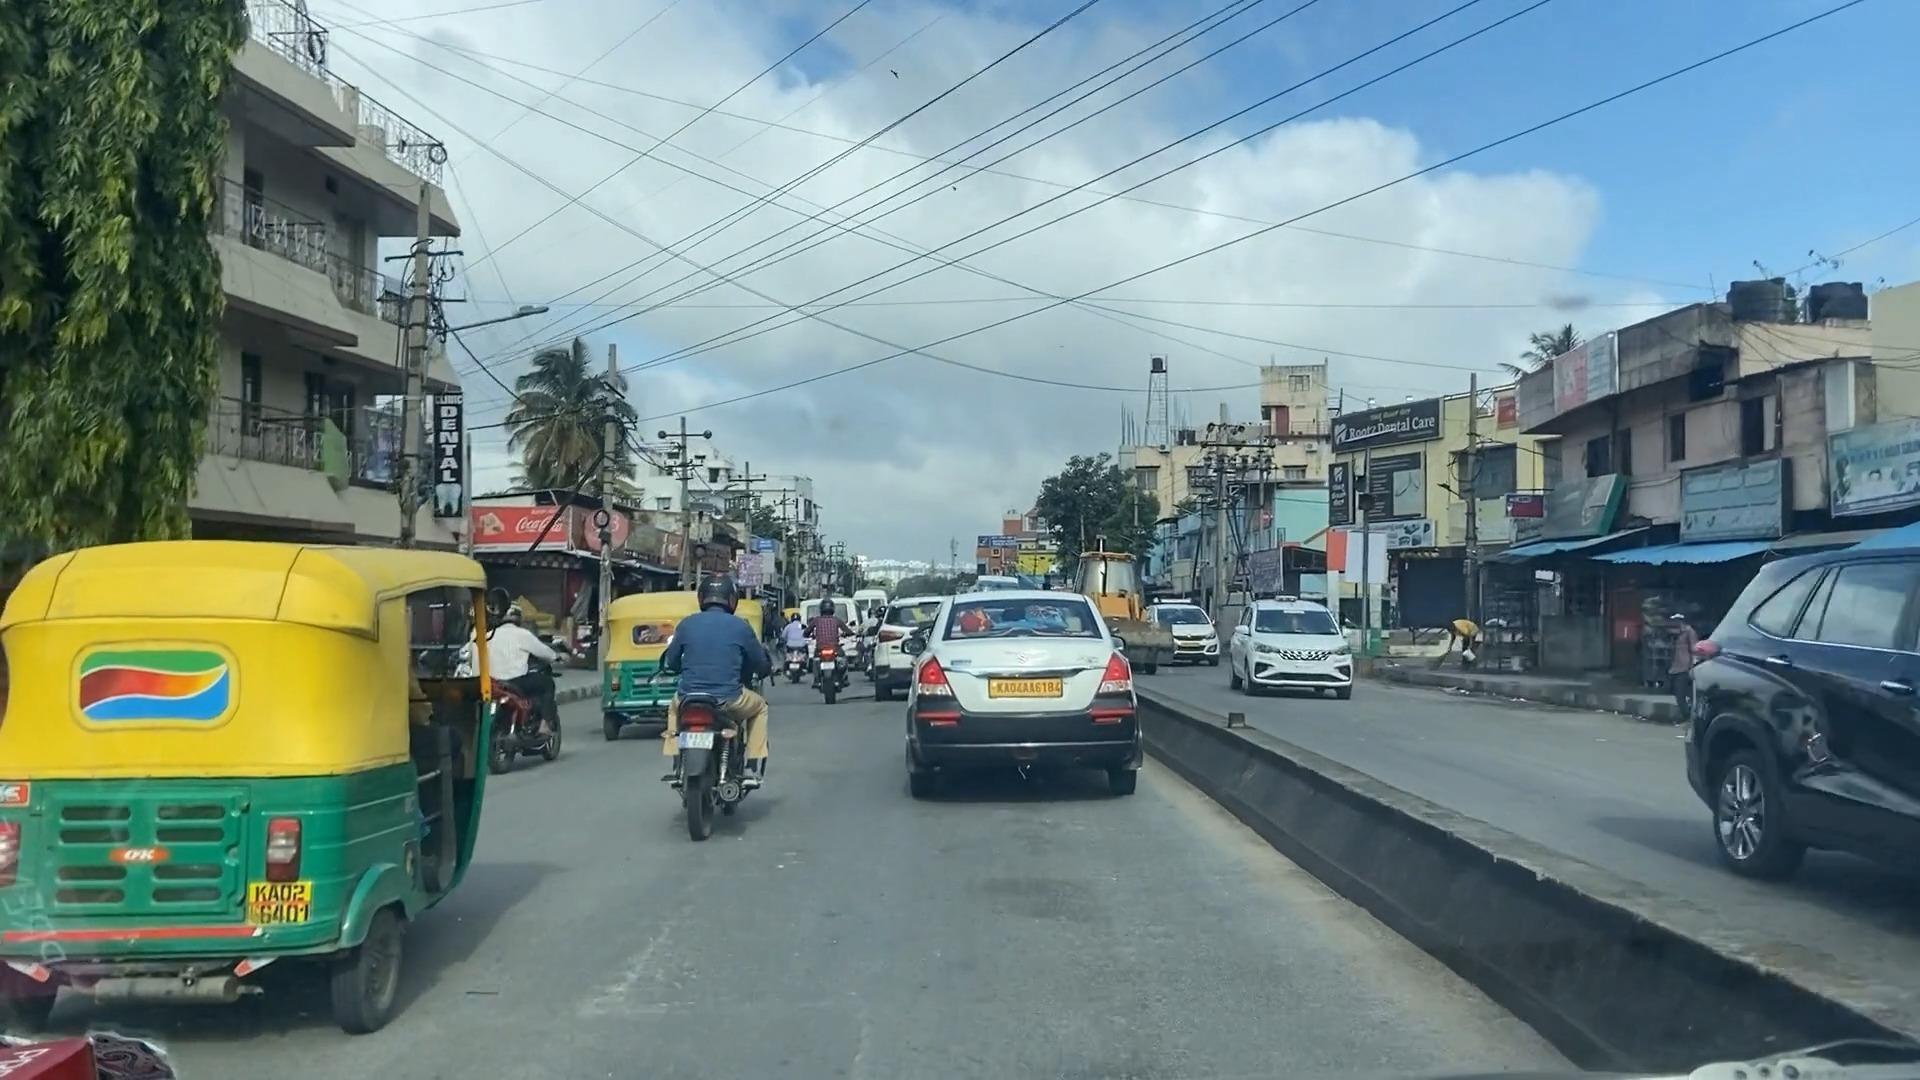LMV: (8, 527, 502, 1010), (894, 589, 1145, 812), (654, 578, 756, 839)
RoadDamages: (588, 887, 716, 1062)
